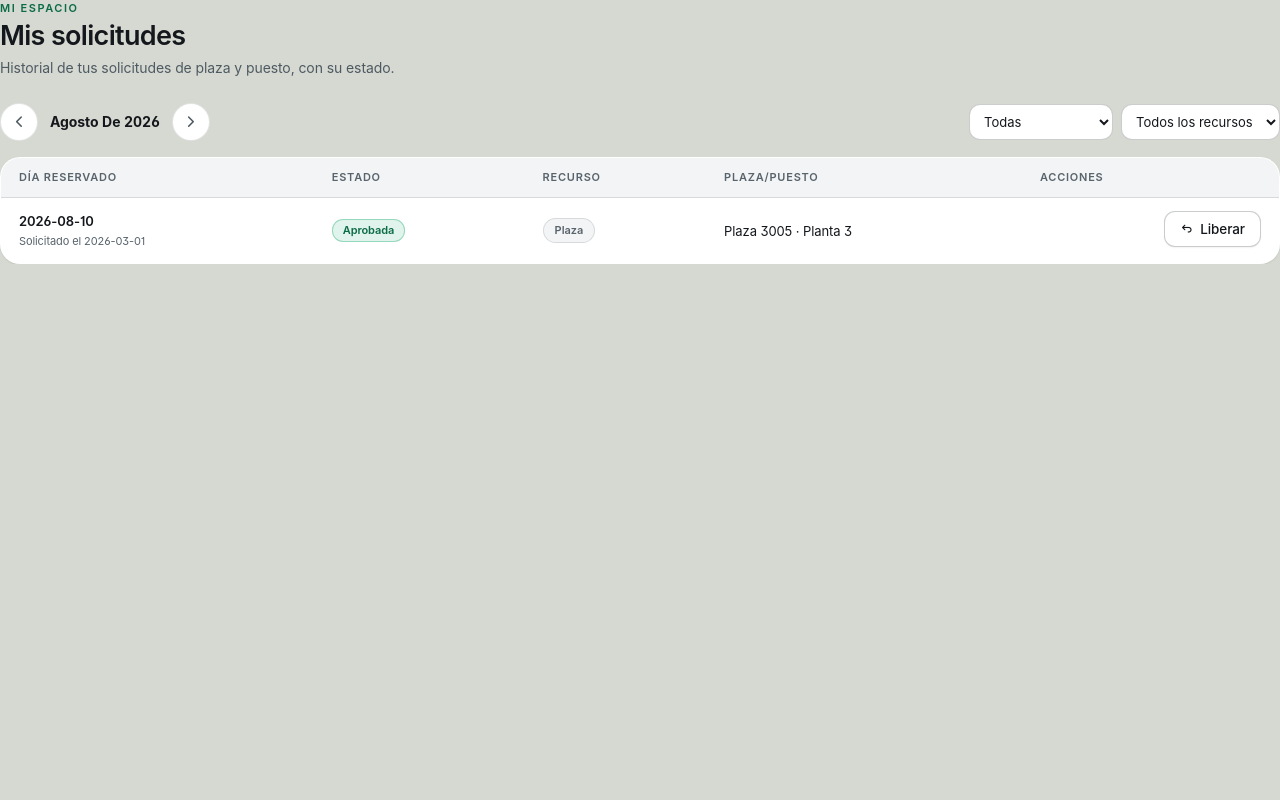
Test: MyRequestsPage (EMPLOYEE) › should_release_approved_future_via_modal_and_invalidate_query
# APPROVED → botón "Liberar".
Click the button "Liberar".
click(1212, 229)  # box [1164,211,1261,247]
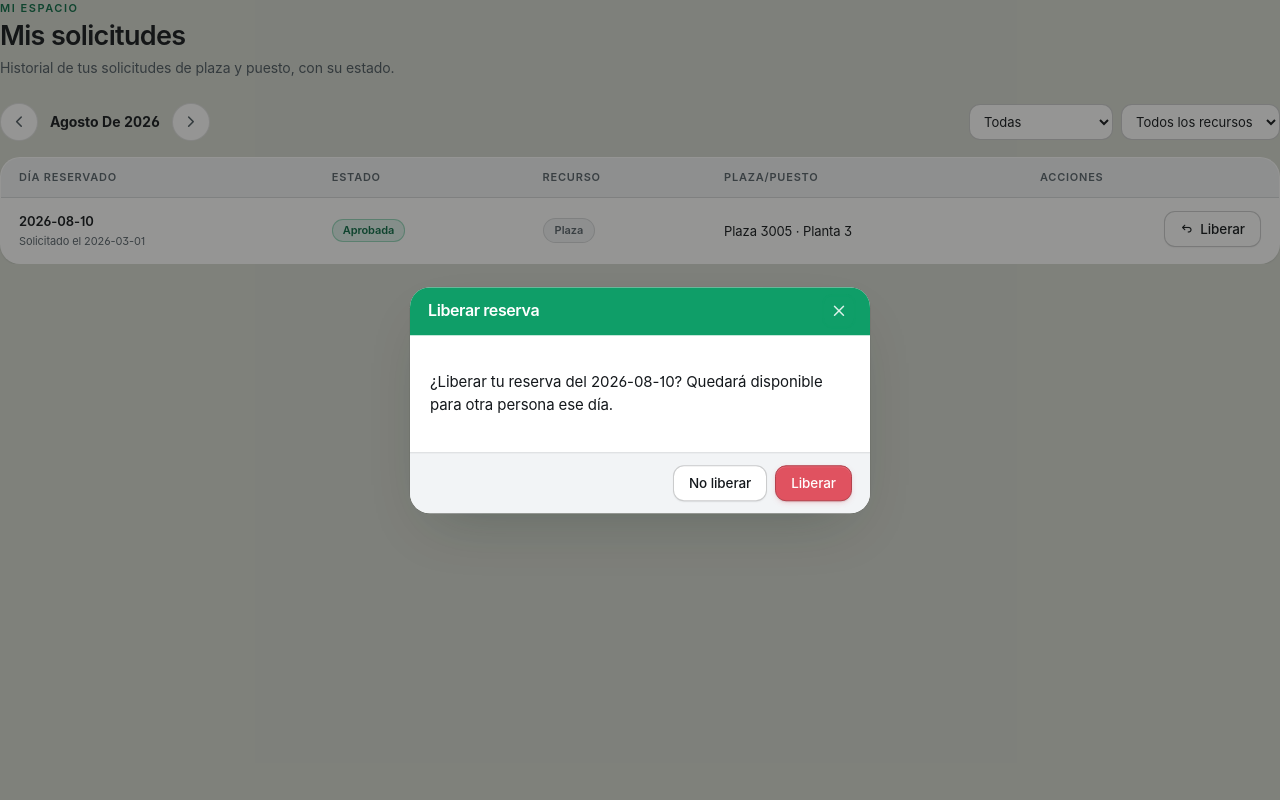
Click the button "Liberar".
click(814, 483)  # box [775,465,852,501]
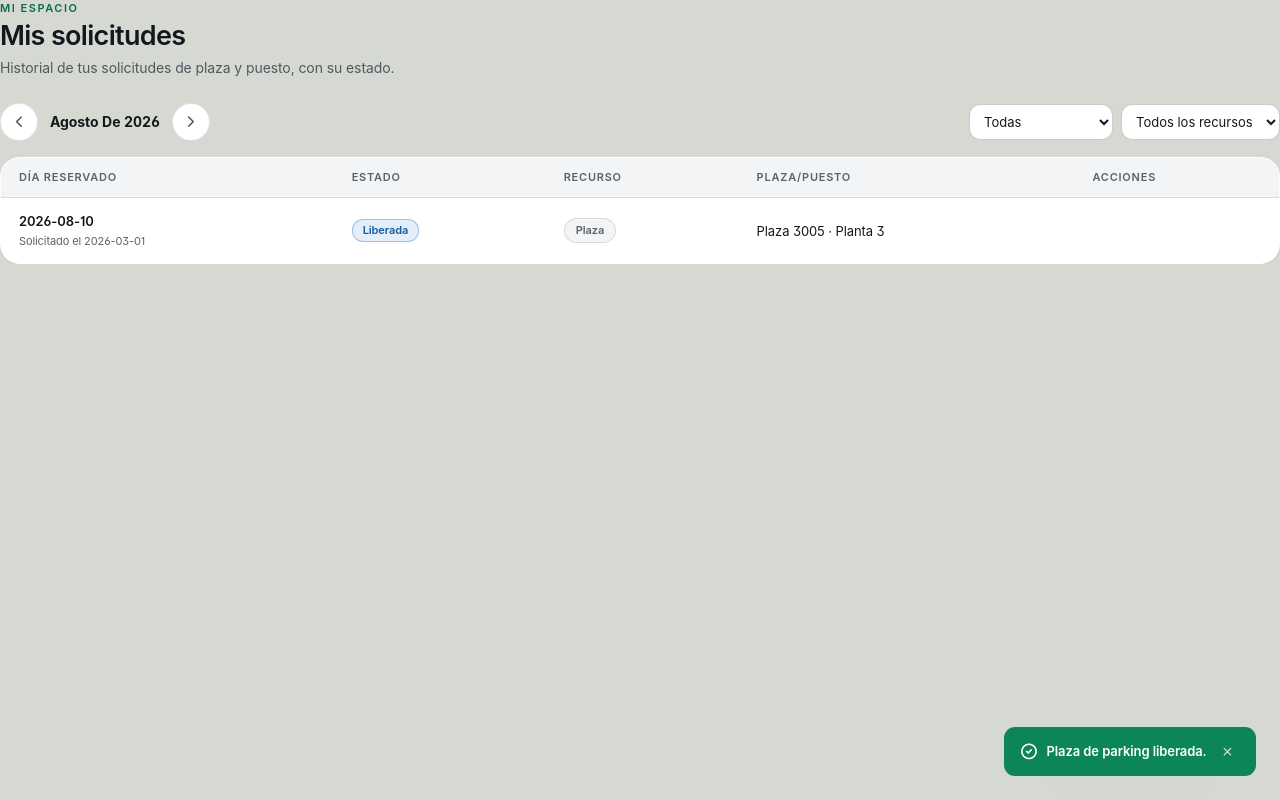
Check: the dialog is gone
